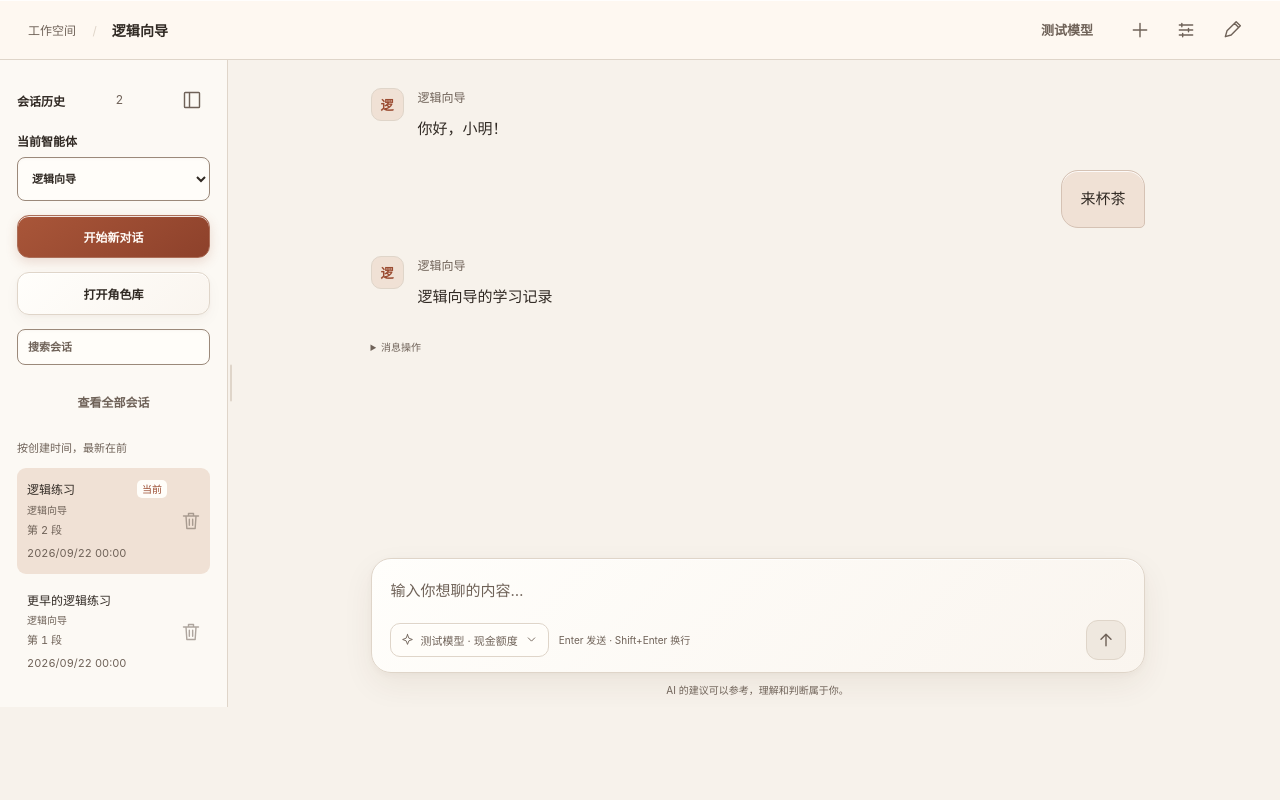
returns to the learning role last selected conversation rather than its newest conversation
The image size is (1280, 800).
expect the text "逻辑向导的学习记录" is shown: met, box [418, 286, 552, 306]
Click the button "更早的逻辑练习 逻辑向导 第 1 段 2026/09/22 00:00": (97, 632) [17, 579, 177, 685]
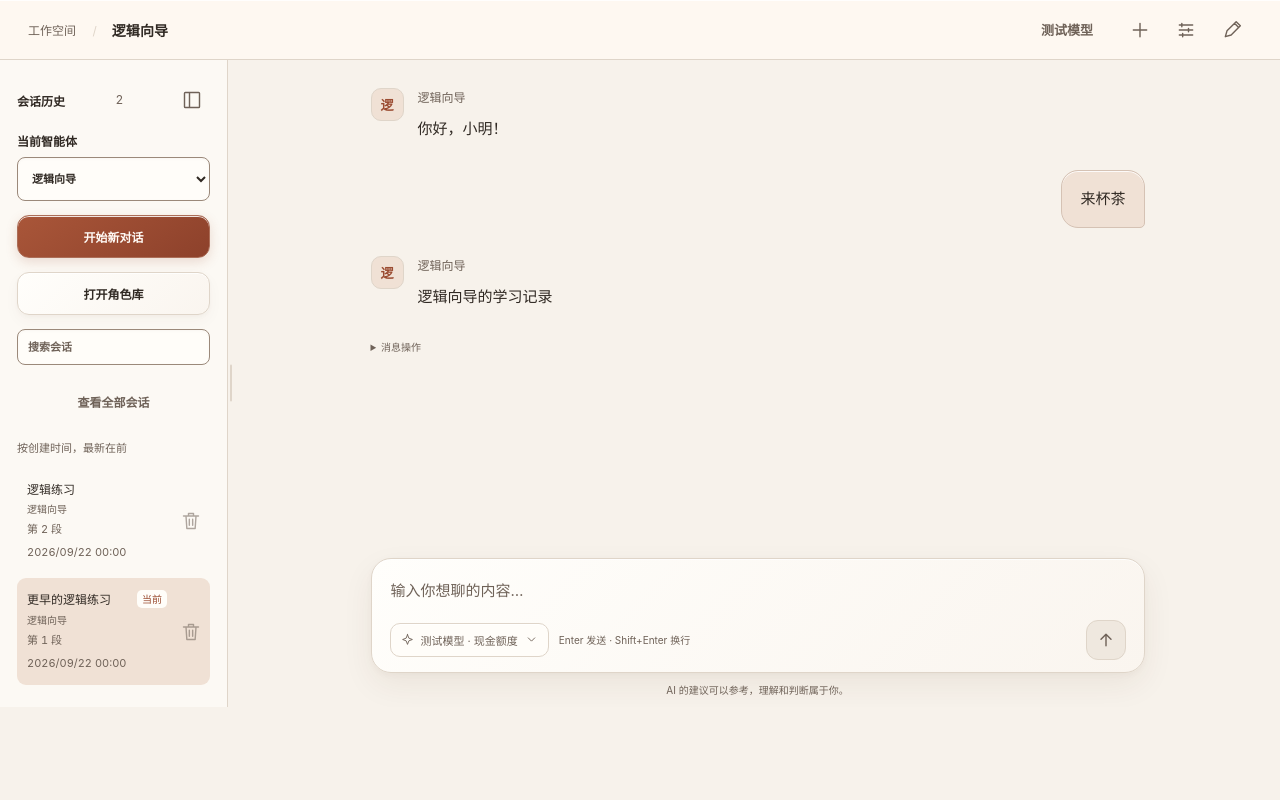
Select "阅读伙伴" in the dropdown: (114, 179) [17, 157, 210, 201]
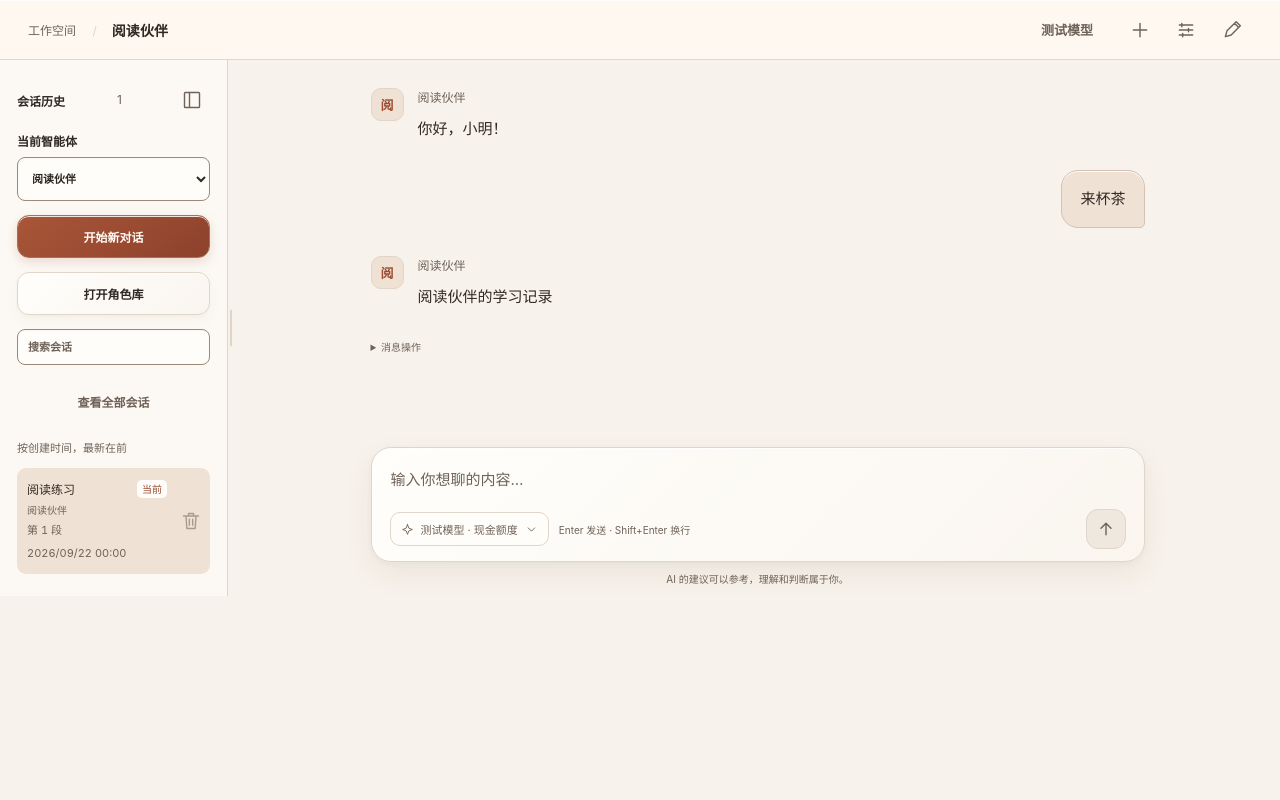
expect the text "阅读伙伴的学习记录" is shown: met, box [418, 286, 552, 306]
Select "逻辑向导" in the dropdown: (114, 179) [17, 157, 210, 201]
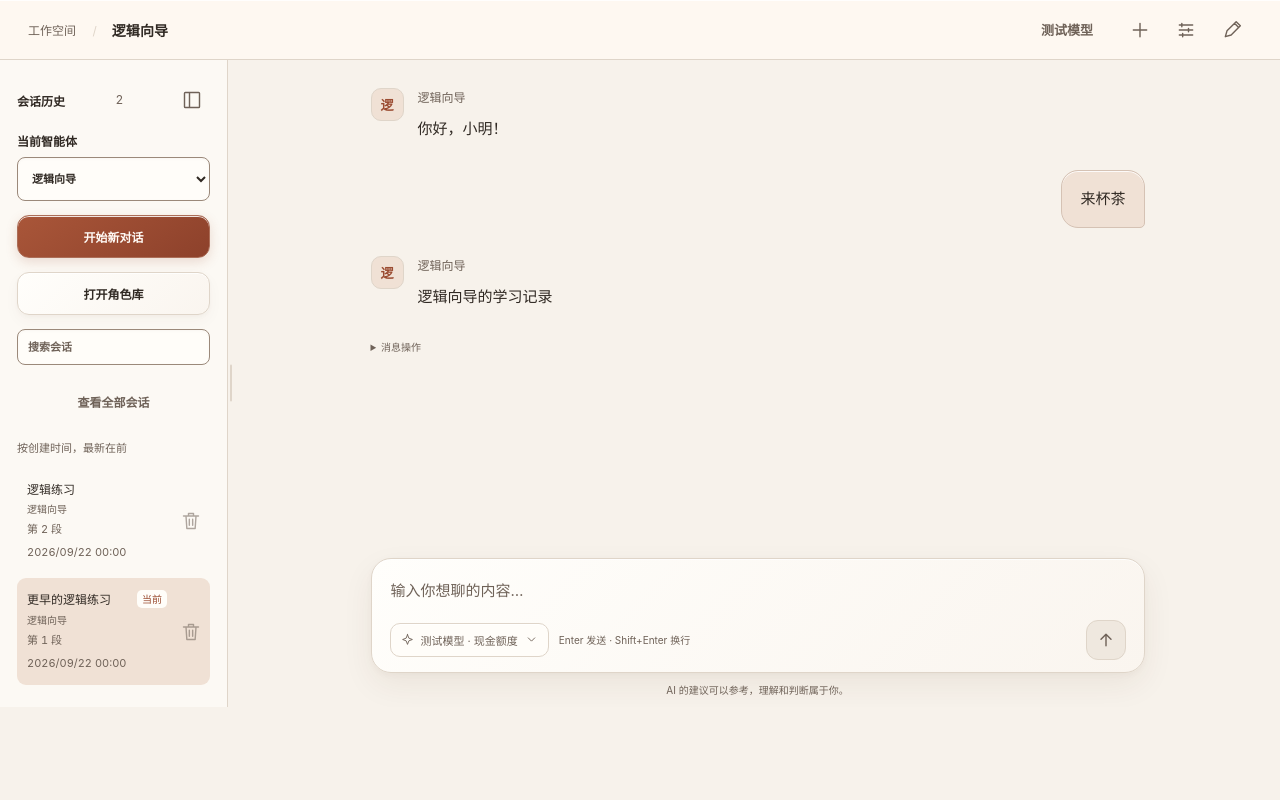
expect the text "逻辑向导的学习记录" is shown: met, box [418, 286, 552, 306]
